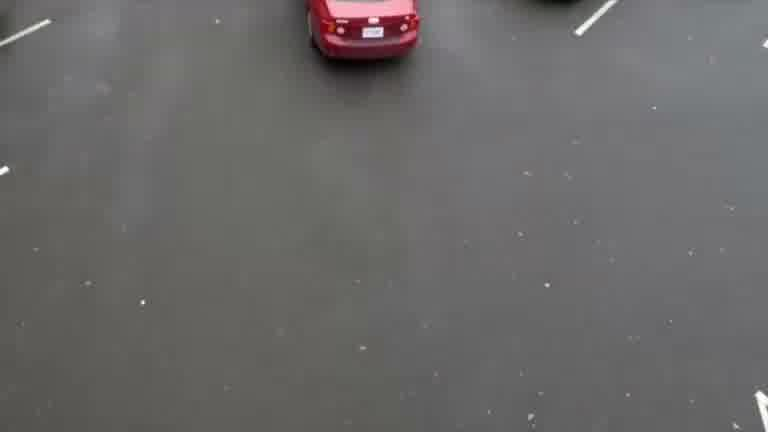car: (293, 0, 433, 88)
